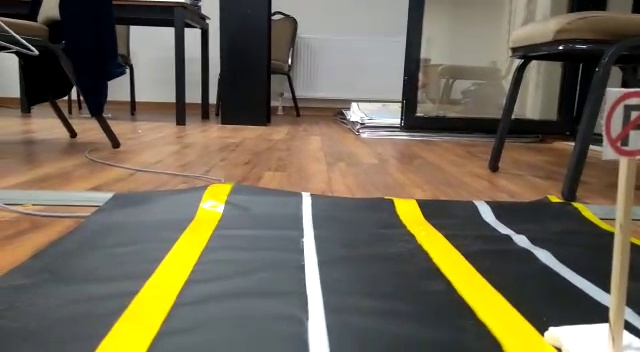park_yapilmaz: (596, 90, 640, 160)
